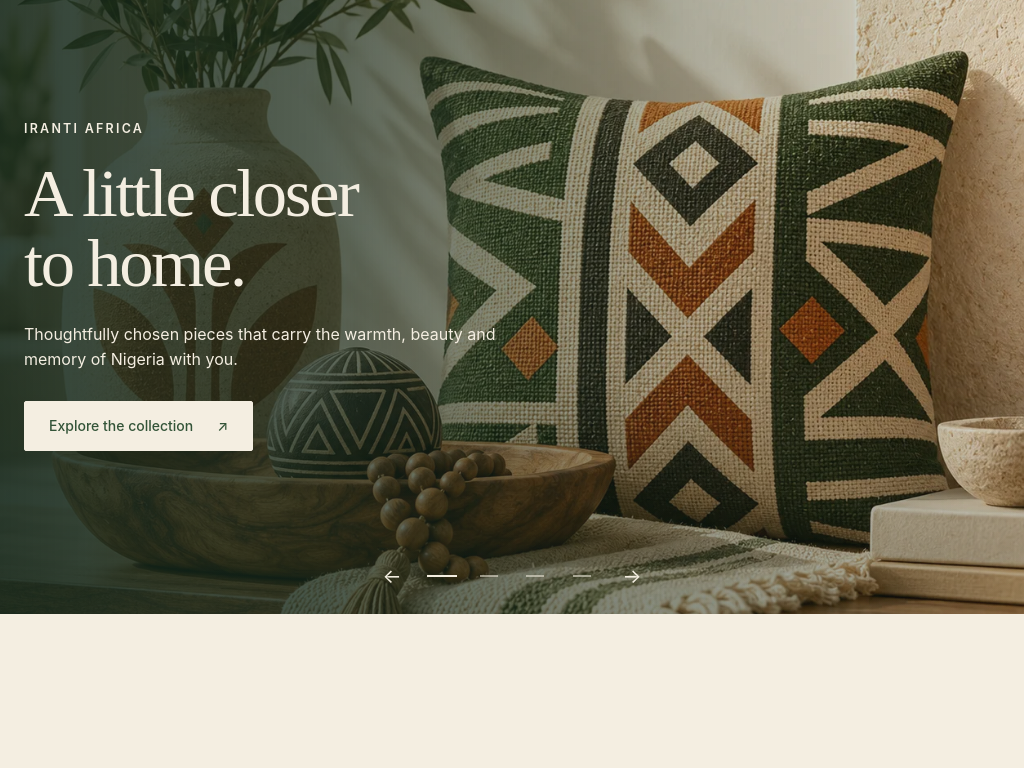
Test case: homepage campaign hero › stops autoplay but still allows instant manual navigation with reduced motion
Click the button named "Next story".
click(632, 576)  # box x1=610 y1=554 x2=654 y2=598
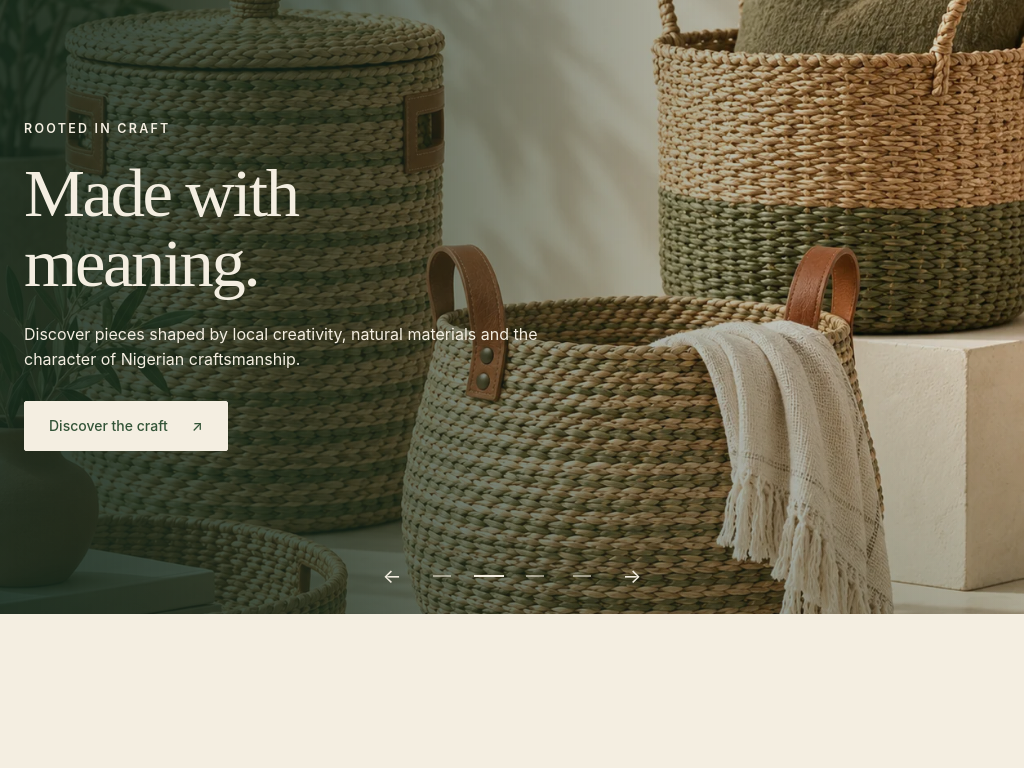
expect the heading reads "Made with meaning.": met, box x1=24 y1=155 x2=298 y2=301
